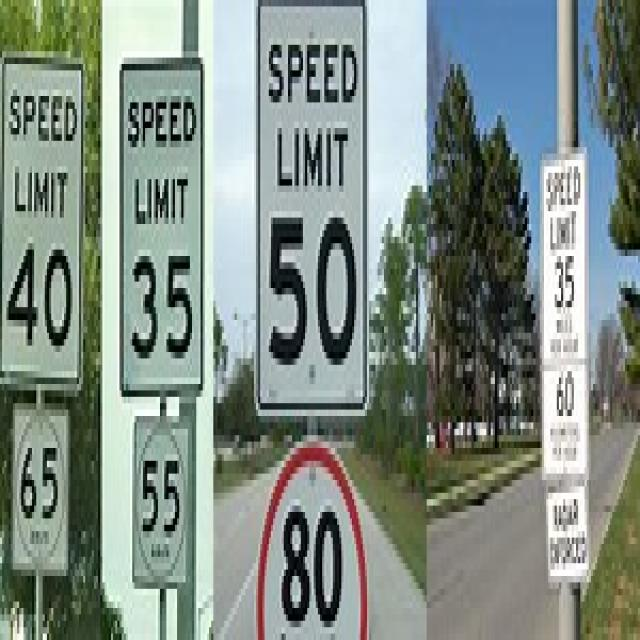speedLimit35: (117, 64, 203, 384), (534, 160, 586, 371)
speedLimit40: (4, 61, 83, 387)
speedLimit50: (252, 3, 367, 420)
